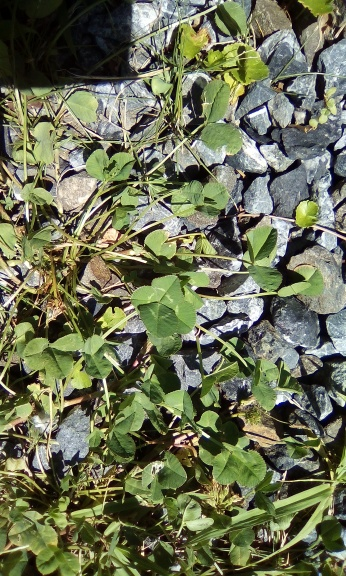4leaf: (129, 274, 197, 338)
